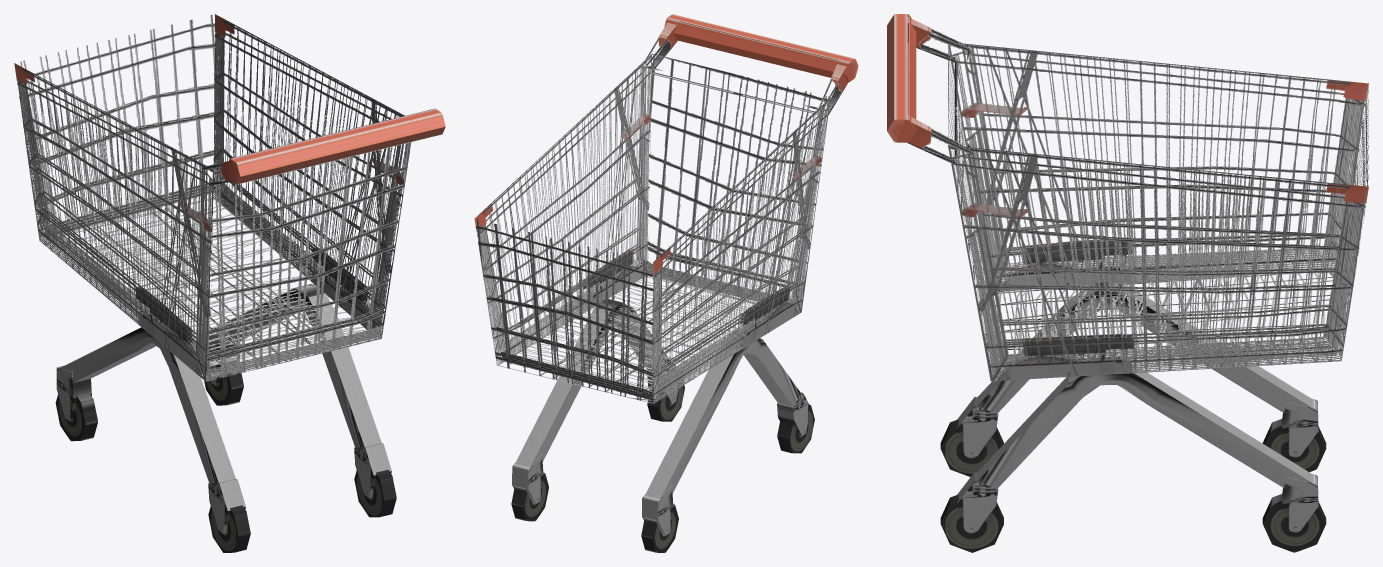
The model's file is MartCart.fbx.
3 renders of one model, left to right at view 1: azimuth 30°, elevation 25°; view 2: azimuth 150°, elevation 25°; view 3: azimuth 270°, elevation 25°, orthographic. The views are drawn at different scales.
Parts seen in each view (by area): view 1: mARTcART; view 2: mARTcART; view 3: mARTcART.
Part boxes in pixels (box(x1,y1,x2,y2)): mARTcART: box(14, 14, 445, 552); mARTcART: box(474, 14, 858, 552); mARTcART: box(887, 14, 1368, 552).
Bounding box in the file's own units: 225 × 442 × 434.
